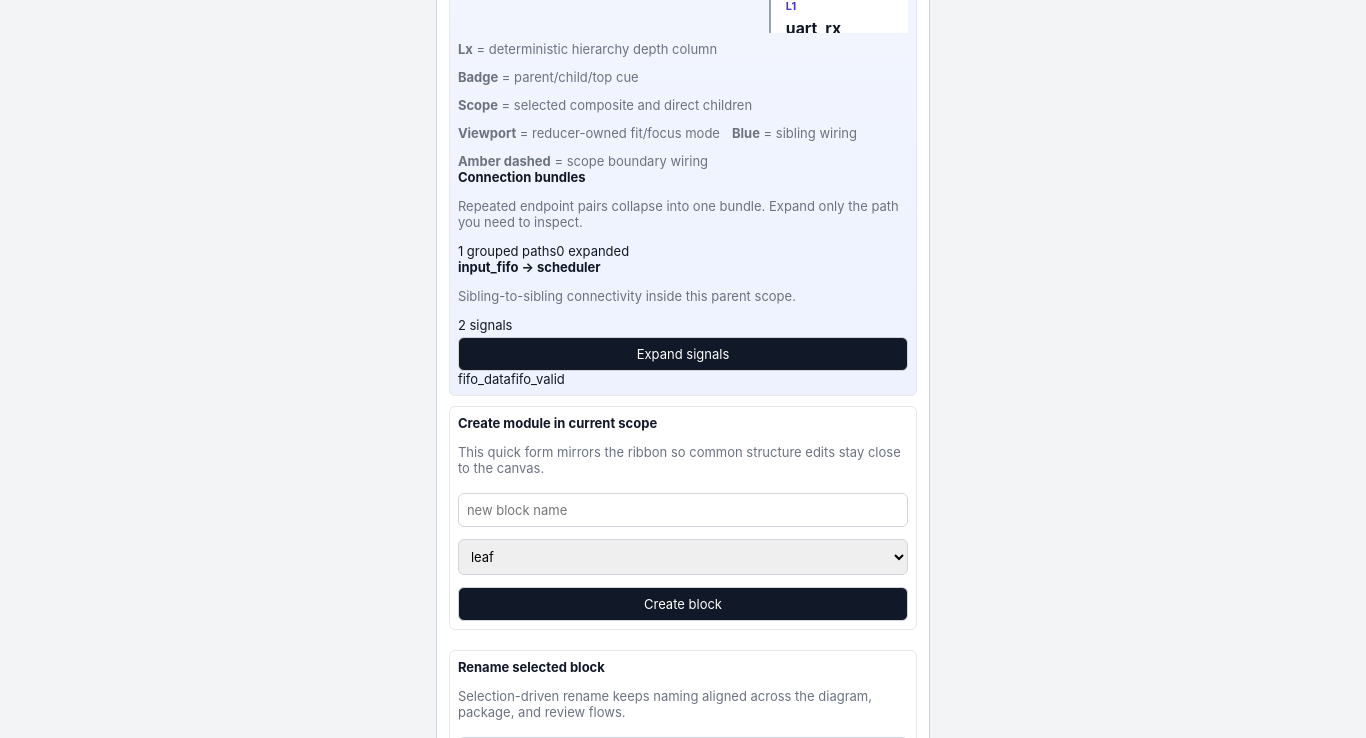
DiagramWorkspace › collapses expanded bundles with the global bundle control
The image size is (1366, 738).
(page scrolled)
Click the button "Expand signals": click(683, 354) [458,337,908,371]
(page scrolled)
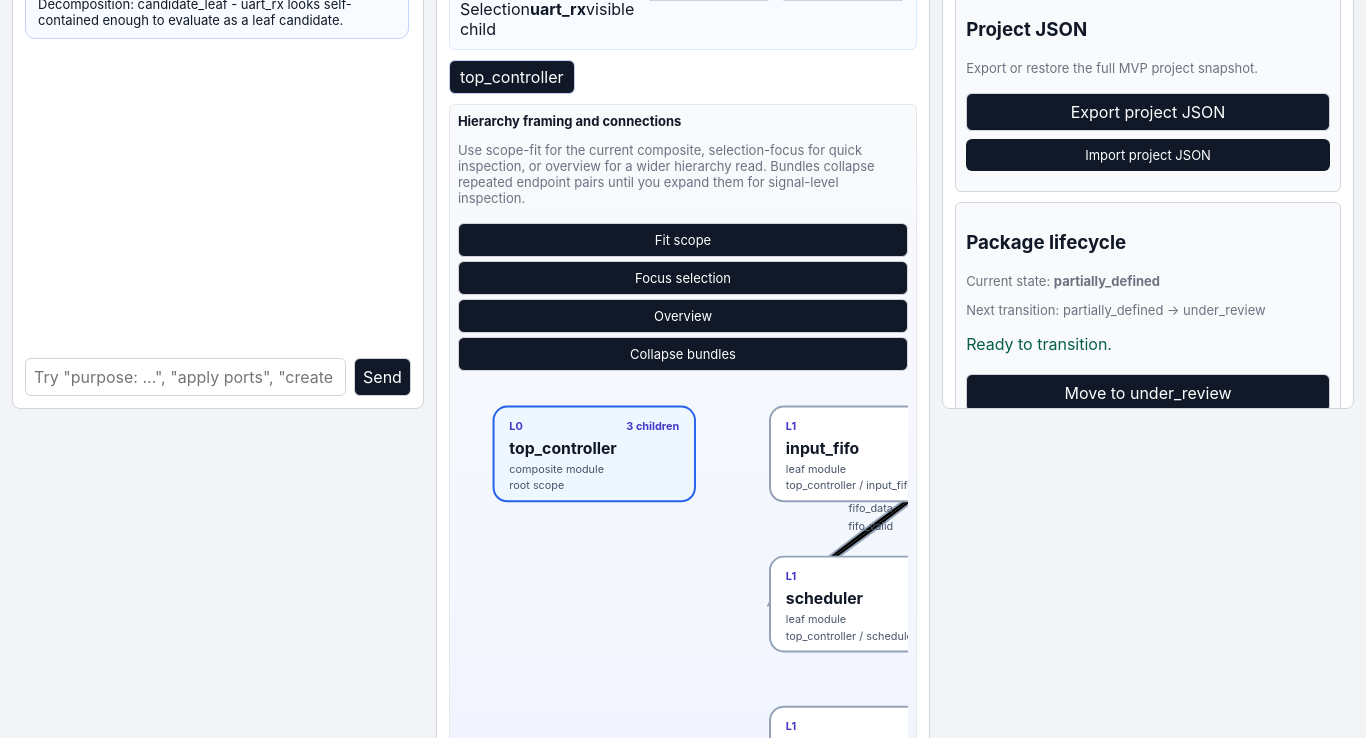
Click the button "Collapse bundles": click(683, 354) [458,337,908,371]
(page scrolled)
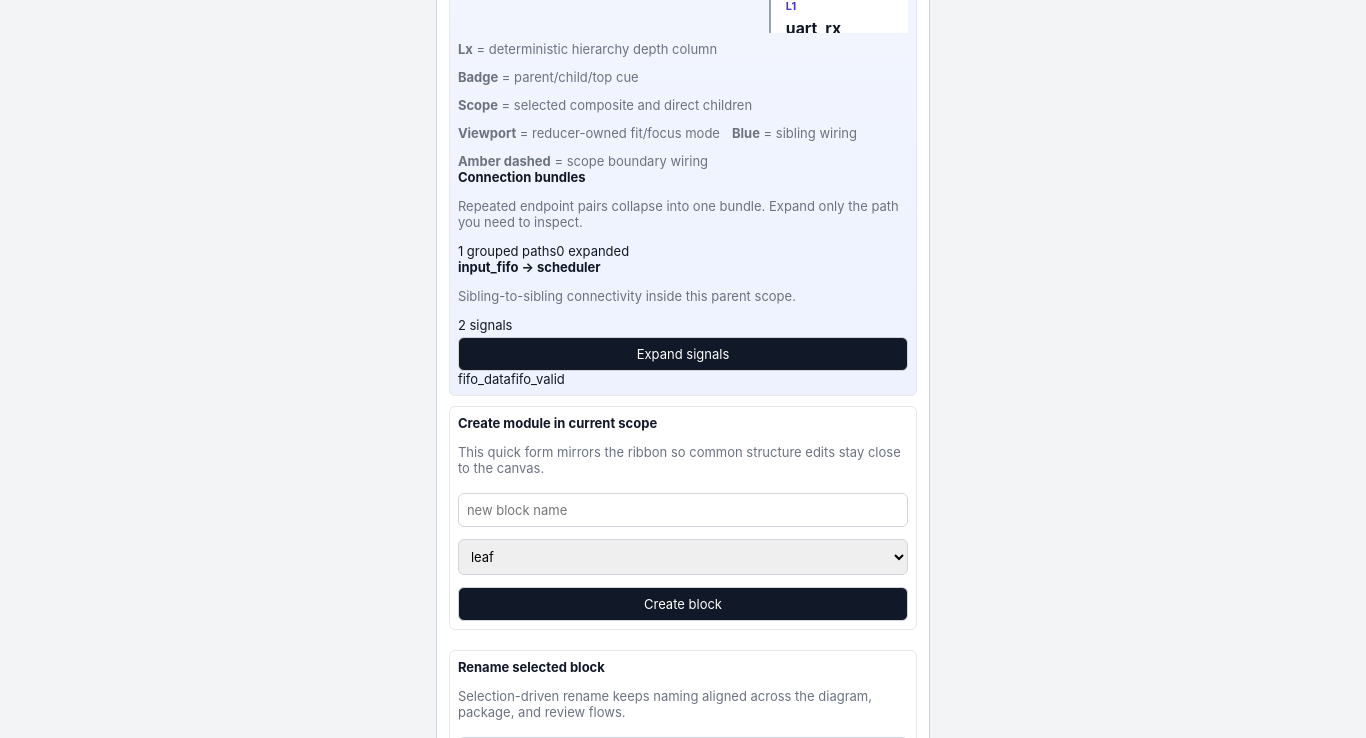
Check: the button "Expand signals" is shown, box [458,337,908,371]
